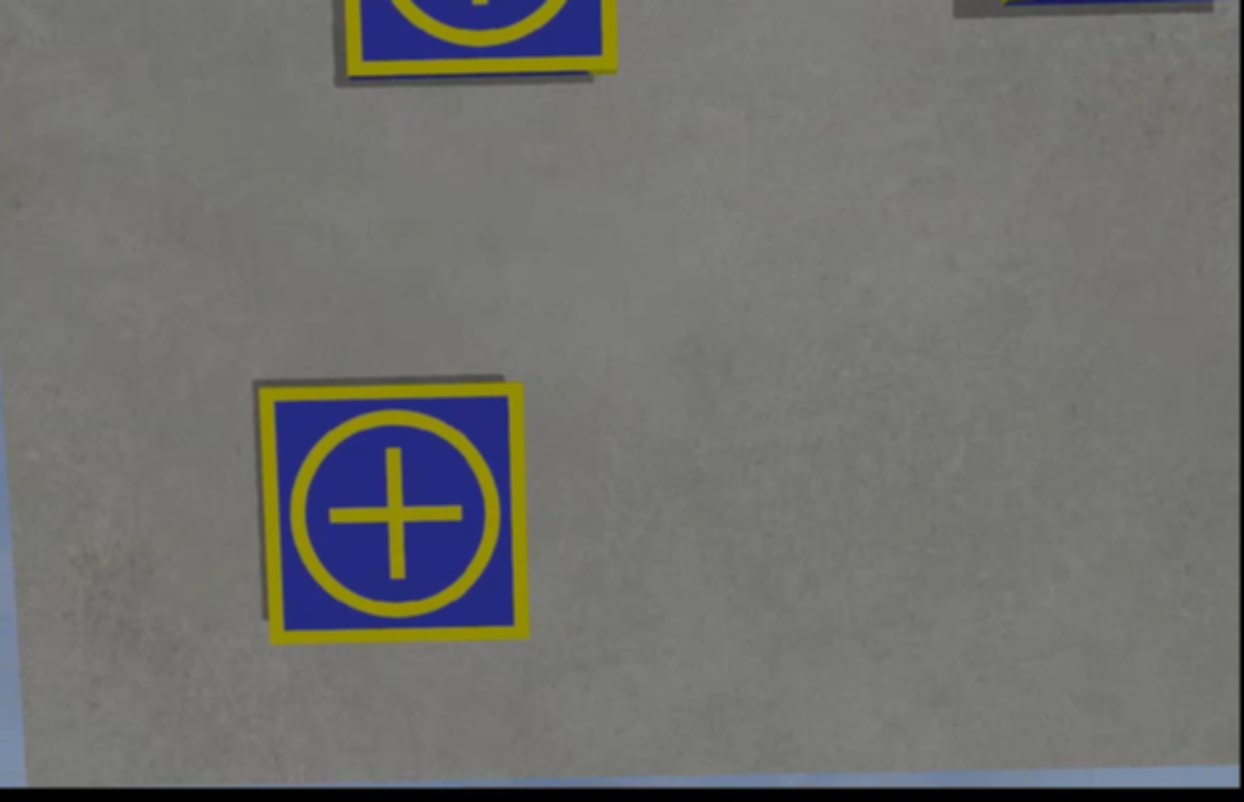small_base: (255, 385, 532, 645), (346, 1, 627, 82)
